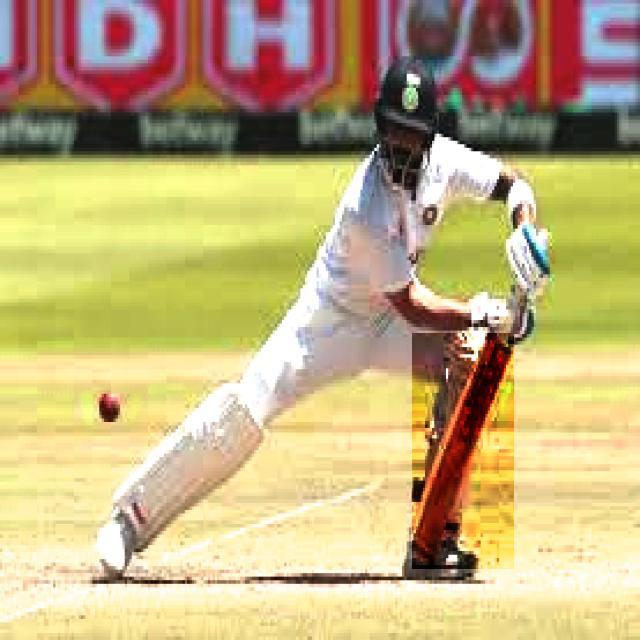bat: (414, 334, 514, 568)
toe: (403, 536, 441, 558)
